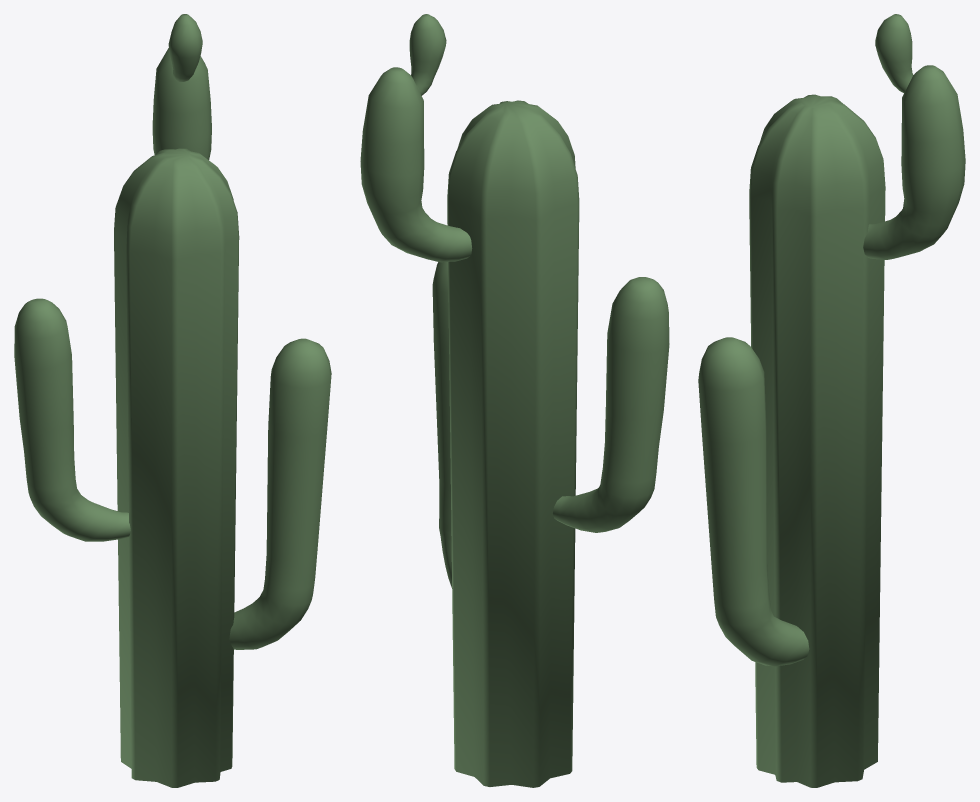
File: CactusStubby.fbx
The picture shows the model from 3 angles, left to right: view 1: azimuth 30°, elevation 25°; view 2: azimuth 150°, elevation 25°; view 3: azimuth 270°, elevation 25°; orthographic projection. The views are drawn at different scales.
Visible parts, largest first — view 1: Torus.007; view 2: Torus.007; view 3: Torus.007.
Part boxes in pixels (x1,y1,x2,y2): Torus.007: [14, 14, 331, 787]; Torus.007: [360, 14, 669, 787]; Torus.007: [698, 14, 965, 787].
Bounding box in the file's own units: 109 × 285 × 89.55.
